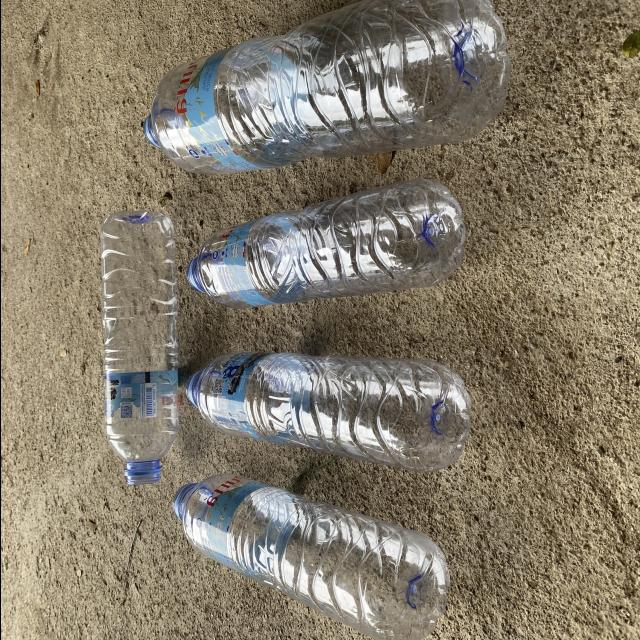plastik: (144, 0, 509, 174), (173, 473, 448, 640), (186, 179, 465, 309), (186, 352, 469, 472), (99, 211, 178, 484)
